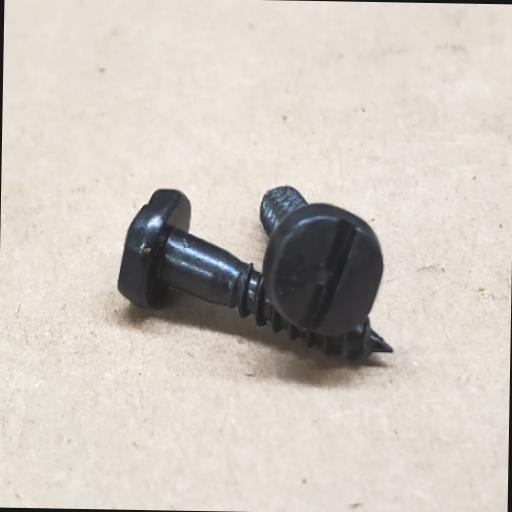Slotted: (265, 203, 382, 342)
